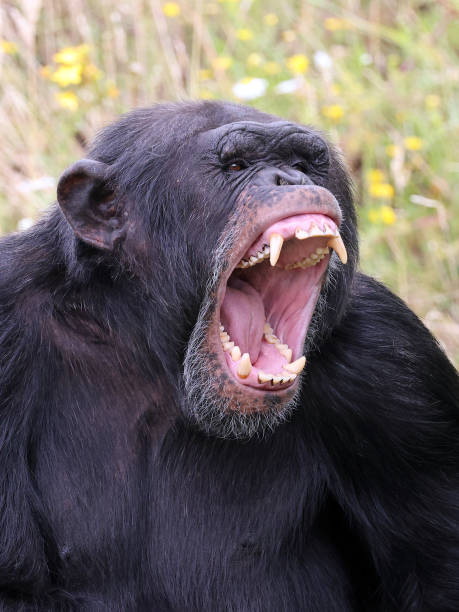chimpanzee: (41, 84, 379, 457)
